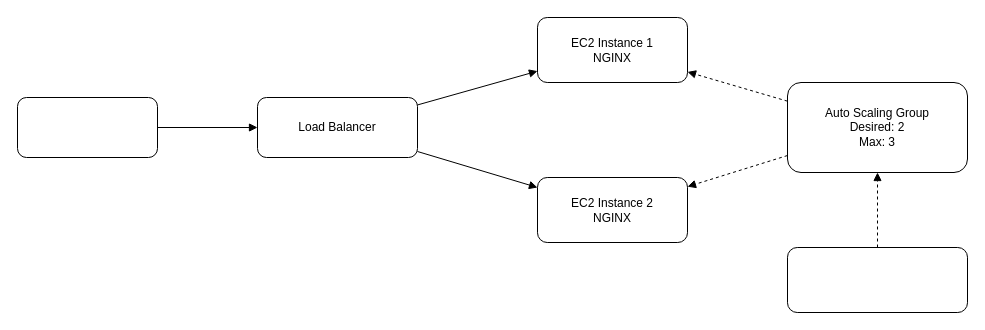
The diagram is 985 pixels wide and 330 high, and some of its shapes have lost their labels. Here are the shapes that lost their labels. From the top down, the box of each, then its label:
(16, 96, 158, 158): Internet Users
(786, 246, 968, 312): Launch Template NGINX setup
